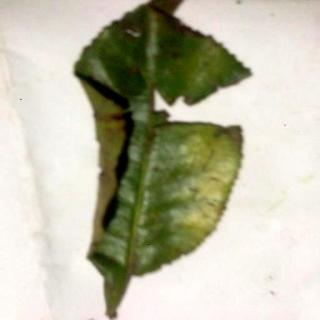Red Leaf Spot: (75, 1, 250, 319)
